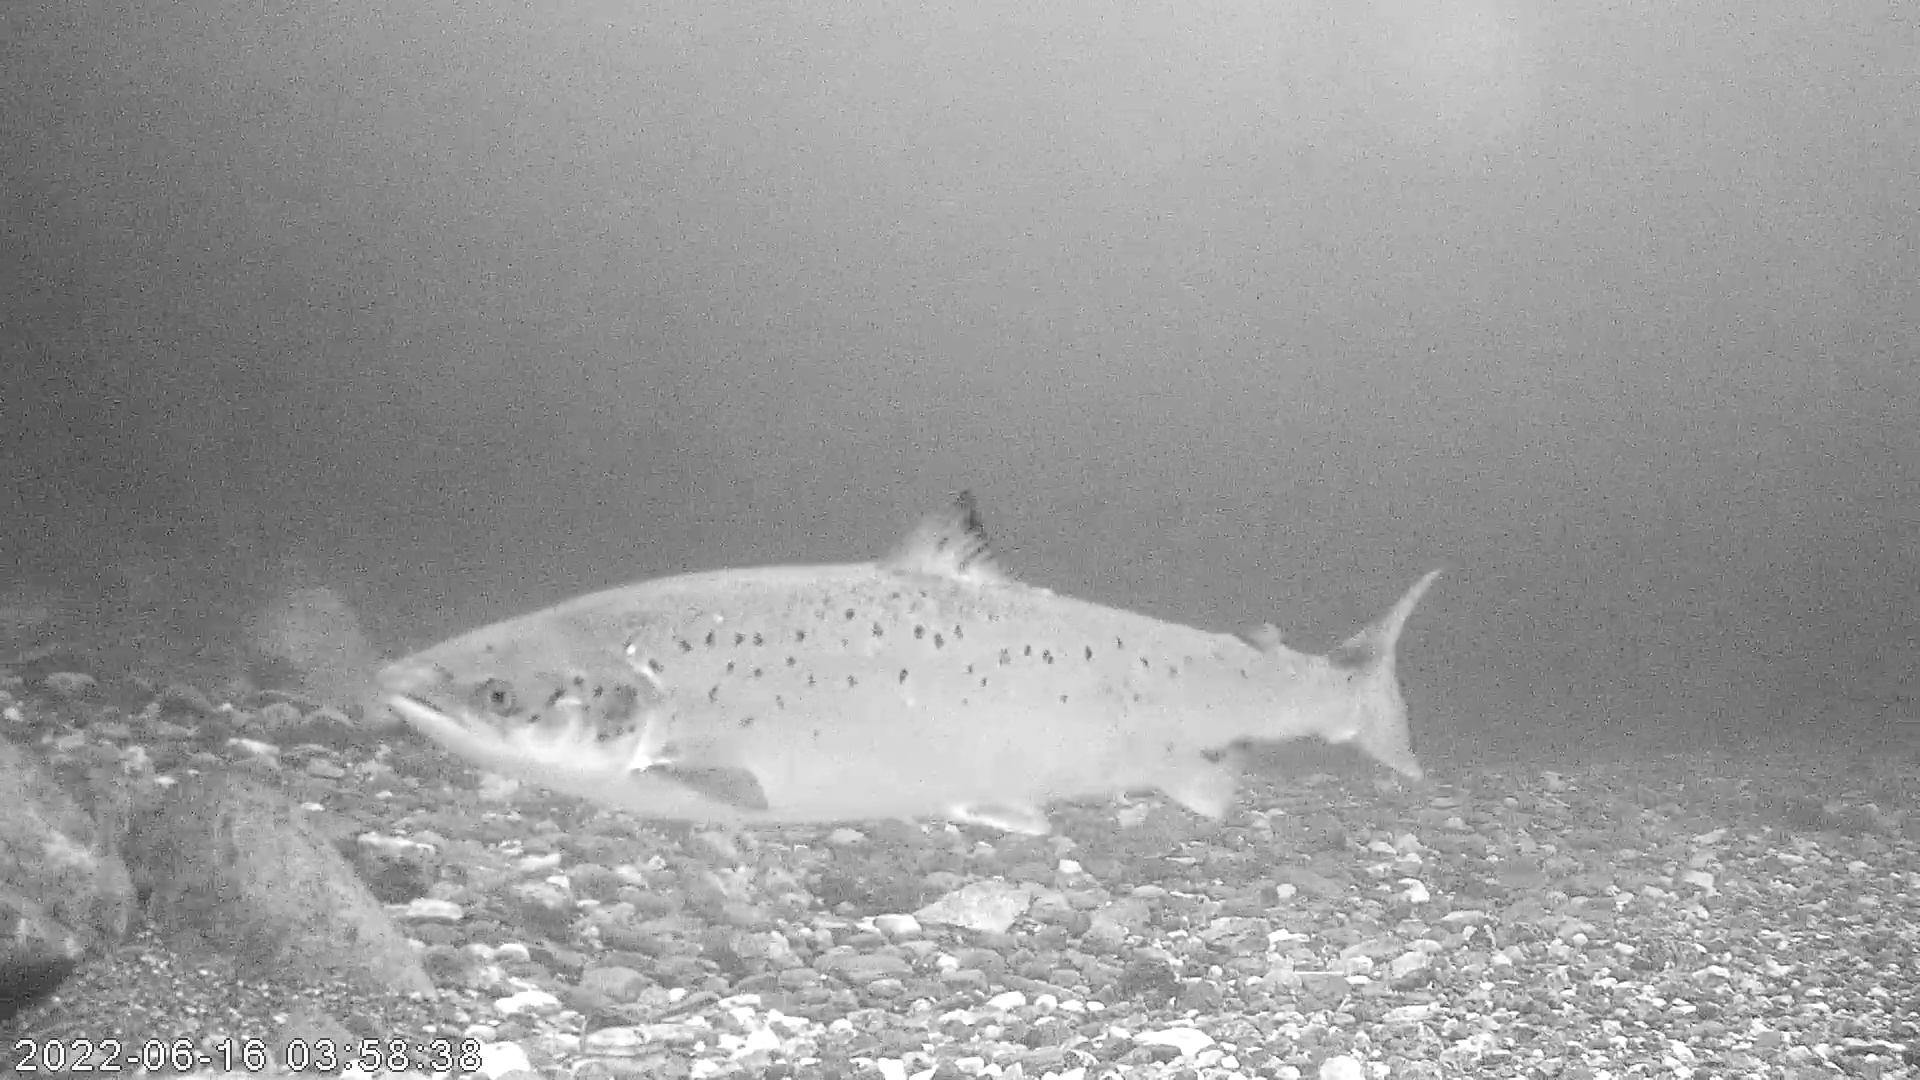salmon: (373, 484, 1444, 843)
